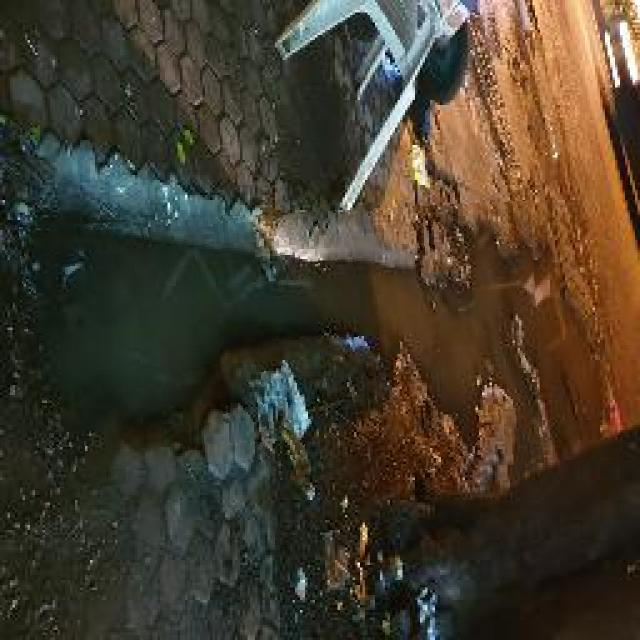puddle: (24, 208, 542, 484)
